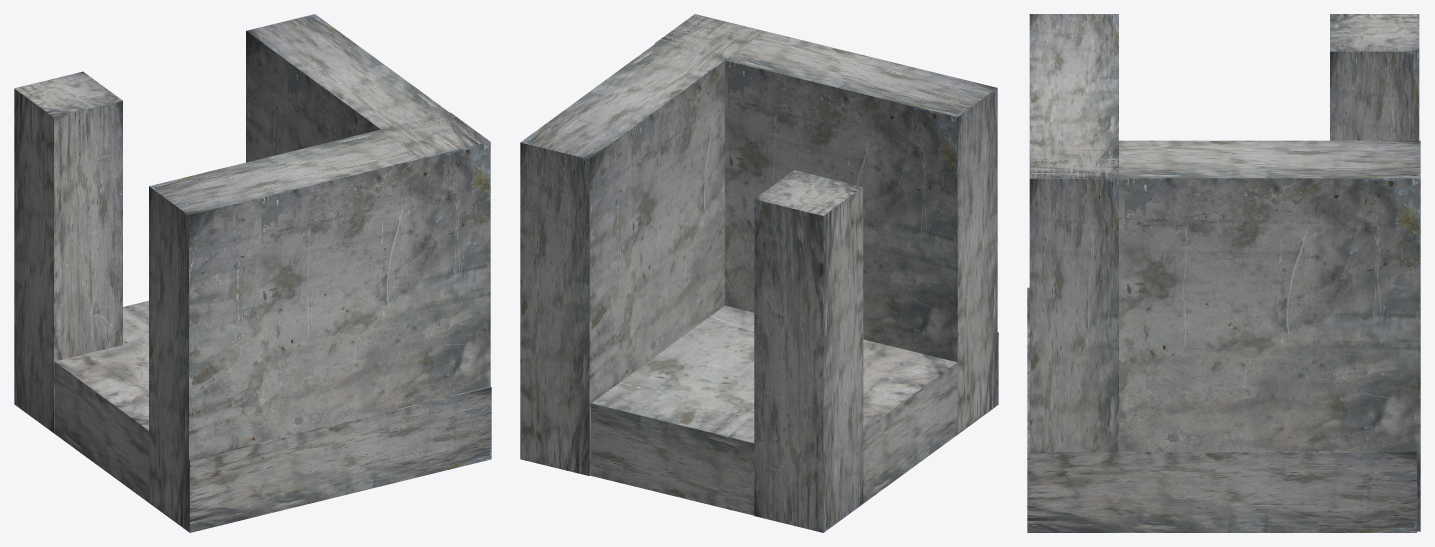
Rendered from Lueftungsschacht_02NEU.fbx.
3 views of the same model, side by side, from view 1: azimuth 30°, elevation 25°; view 2: azimuth 150°, elevation 25°; view 3: azimuth 270°, elevation 25° (orthographic). The views are drawn at different scales.
Parts seen in each view (by area): view 1: pCube31; view 2: pCube31; view 3: pCube31.
Part boxes in pixels (x1,y1,x2,y2): pCube31: (14, 14, 491, 532); pCube31: (520, 14, 998, 532); pCube31: (1027, 14, 1420, 532).
Bounding box in the file's own units: 17.53 × 17.55 × 17.66.
1 material, 1 textured.
